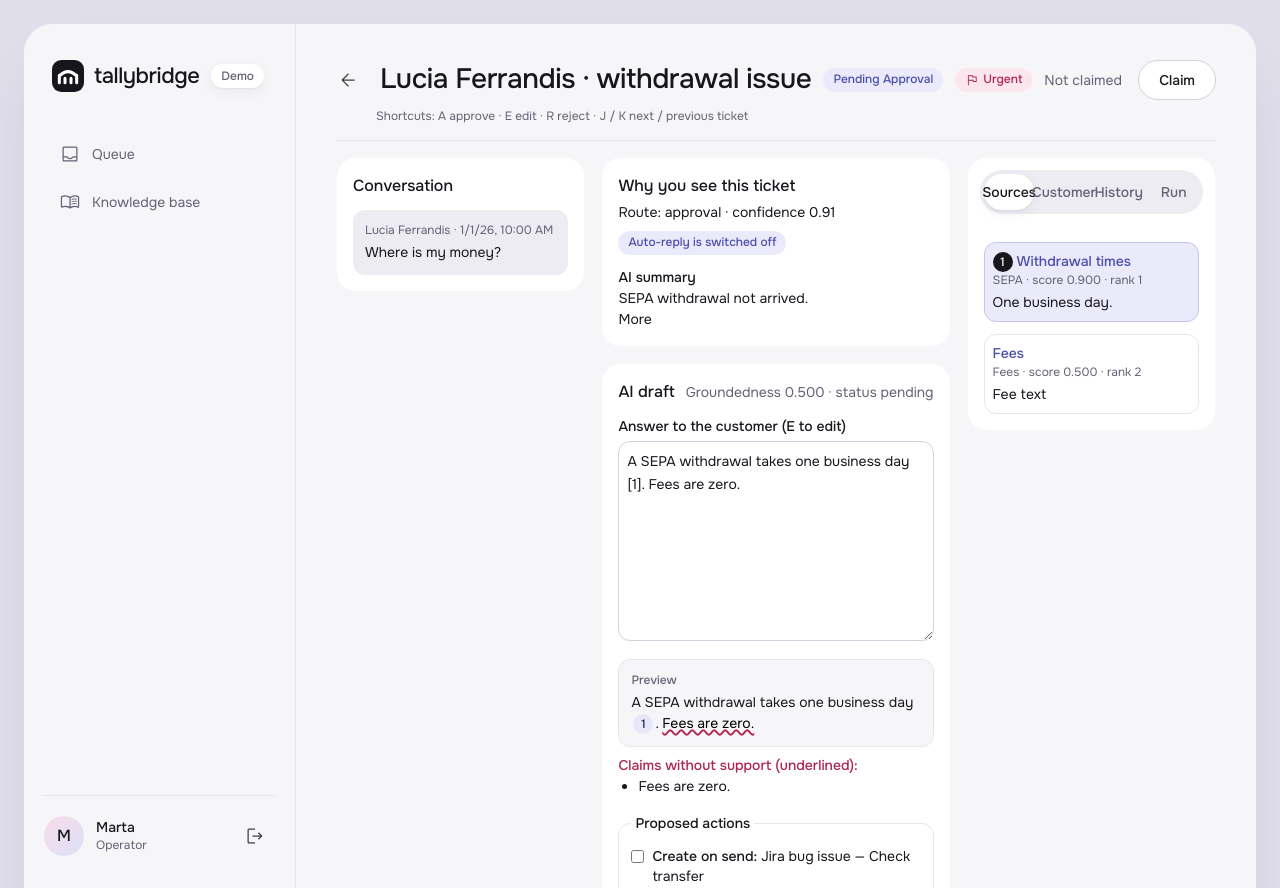
Test: customer tab › says Unknown when the account API fails
The image size is (1280, 888).
Step 1. Click the tab "Customer" → coordinates (1064, 192), box [1038,174,1089,210]
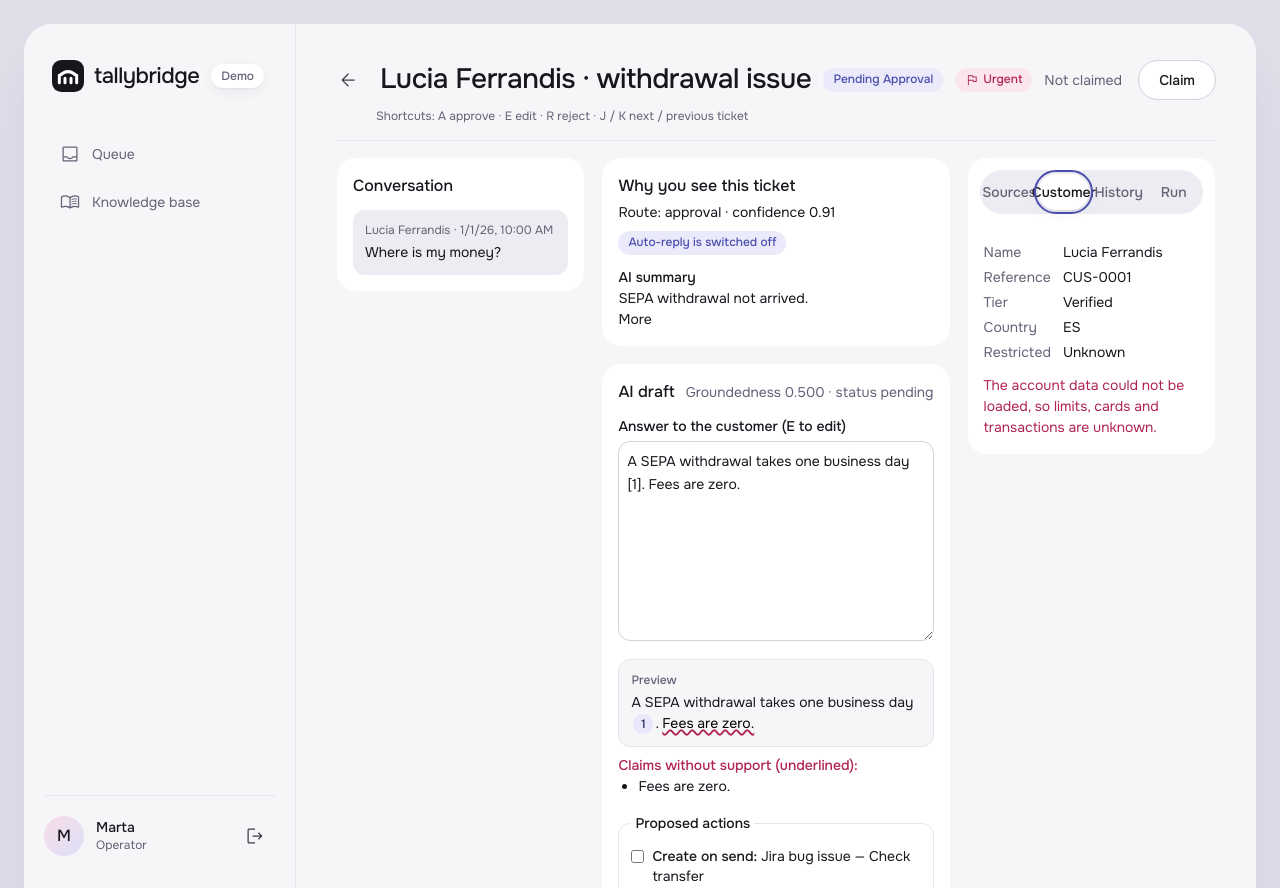
Now the message shows "unknown", box [984,376,1184,436]
Now the text "Unknown" is shown, box [1063,343,1125,361]
